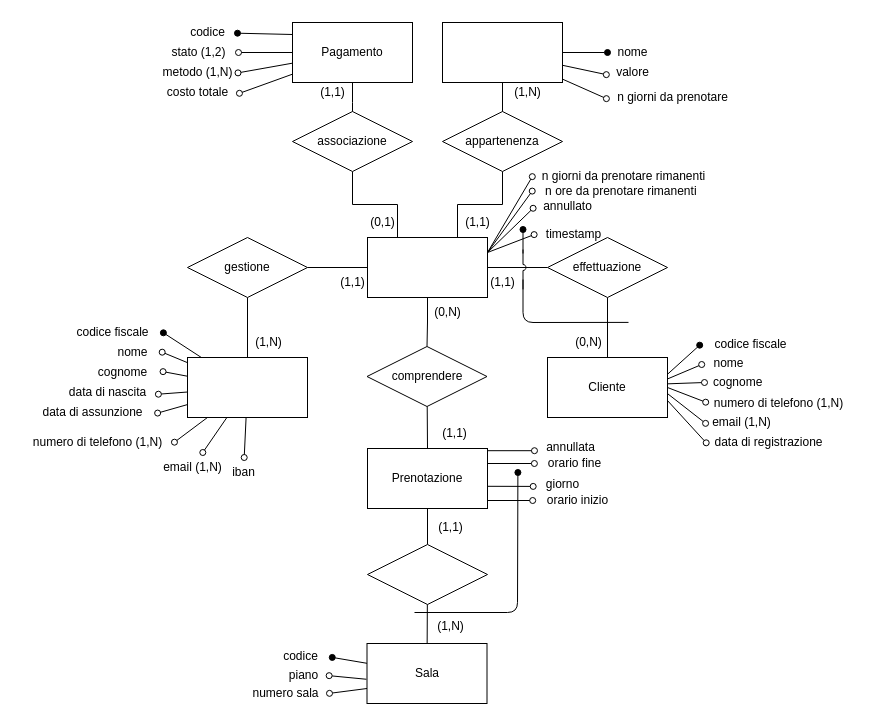
The diagram is 870 pixels wide and 725 high, and some of its shapes have lost their labels. Here are the shapes that lost their labels. From the top down, the box of each, then its label:
(442, 22, 562, 82): Tipologia
(366, 236, 488, 298): Ordine
(186, 356, 308, 418): Operatore
(366, 544, 488, 604): oggetto di
